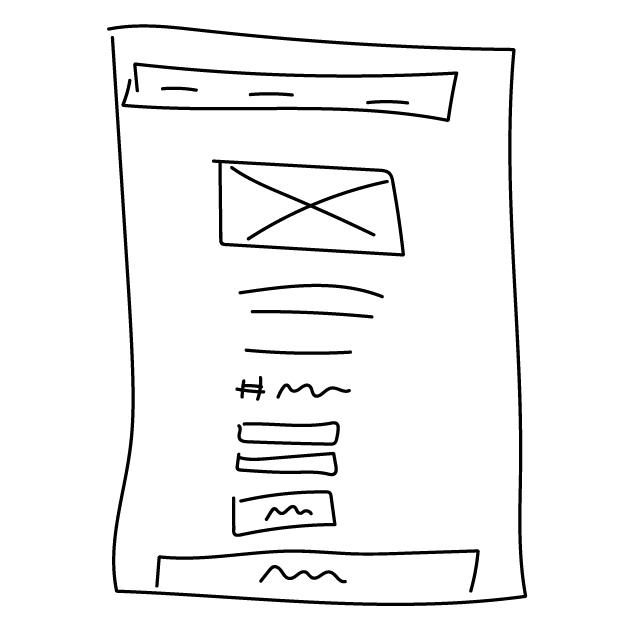buttonrotation: (229, 486, 341, 540)
containerrotation: (93, 18, 546, 612)
footerrotation: (152, 548, 484, 610)
framerotation: (207, 154, 411, 263)
headingrotation: (236, 374, 357, 408)
inputrotation: (237, 420, 343, 449), (233, 452, 343, 479)
navrotation: (124, 59, 464, 126)
textrotation: (235, 274, 395, 361)
